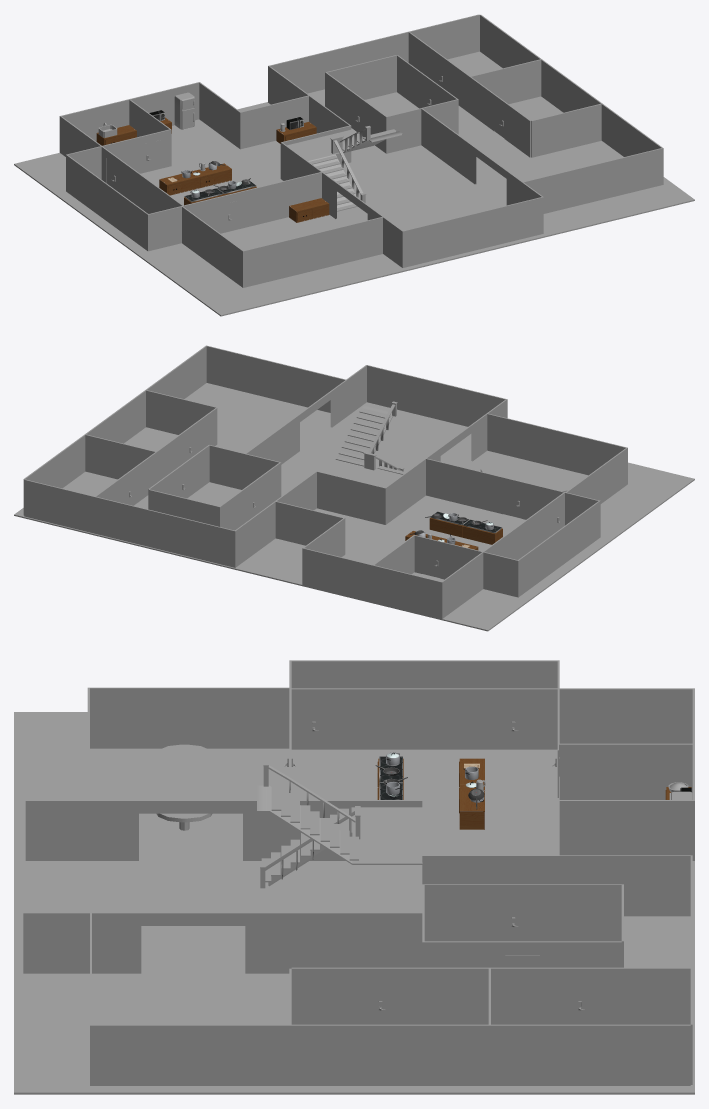
The model's file is floorplan_level1_ver1.3.fbx.
3 views of the same model, one above another, from view 1: azimuth 30°, elevation 25°; view 2: azimuth 150°, elevation 25°; view 3: azimuth 270°, elevation 25° (orthographic). The views are drawn at different scales.
Parts seen in each view (by area): view 1: Floor, Stairs4, Wall24, Wall97, Wall60, Wall38, Wall50, Wall88, Wall59, Wall98, Wall100, Wall32 (+69 smaller); view 2: Floor, Stairs4, DiningTable, Wall28, Wall2, Wall5, Wall71, Wall14, Wall40, Wall60, Wall68, Wall69 (+69 smaller); view 3: Floor, Stairs4, Wall11, Wall13, Wall61, Wall63, Wall74, Wall76, Wall78, Wall36, Wall37, Wall62 (+54 smaller).
Boxes of the visible parts, x1,y1,x2,y2 form: Floor: (14, 51, 694, 316); Stairs4: (287, 126, 402, 211); Wall24: (239, 104, 275, 149); Wall97: (531, 112, 566, 157); Wall60: (593, 156, 628, 201); Wall38: (242, 242, 277, 287); Wall50: (508, 197, 543, 242); Wall88: (628, 148, 663, 193); Wall59: (558, 165, 593, 210); Wall98: (566, 103, 601, 148); Wall100: (506, 59, 541, 103); Wall32: (252, 180, 287, 225); Floor: (14, 383, 694, 631); Stairs4: (319, 401, 405, 487); DiningTable: (480, 460, 578, 492); Wall28: (350, 479, 386, 524); Wall2: (372, 565, 407, 610); Wall5: (337, 556, 372, 601); Wall71: (94, 496, 129, 541); Wall14: (483, 552, 518, 597); Wall40: (522, 422, 557, 467); Wall60: (240, 354, 275, 399); Wall68: (199, 522, 234, 567); Wall69: (164, 513, 199, 558); Floor: (14, 712, 694, 1094); Stairs4: (257, 762, 422, 888); Wall11: (424, 688, 490, 749); Wall13: (358, 688, 424, 749); Wall61: (92, 1024, 158, 1085); Wall63: (225, 1024, 291, 1085); Wall74: (358, 1024, 424, 1085); Wall76: (491, 1024, 557, 1085); Wall78: (624, 1024, 690, 1085); Wall36: (223, 687, 289, 748); Wall37: (90, 687, 156, 748); Wall62: (158, 1024, 224, 1085).
Size of the model in its own units: 3260 by 519 by 2465.
